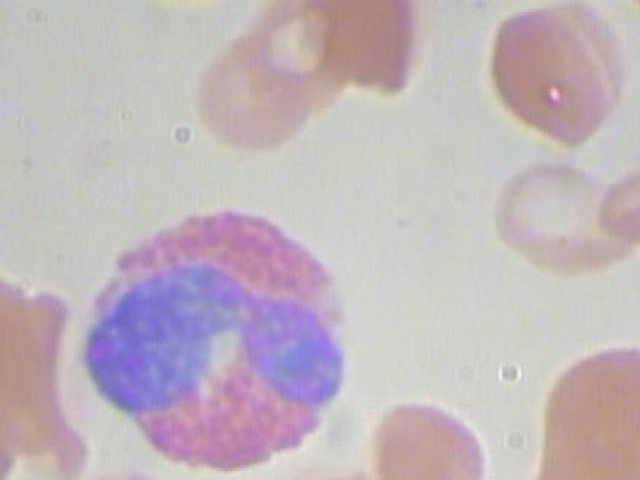RBC: (470, 0, 637, 153), (479, 143, 640, 290), (191, 9, 320, 162), (523, 334, 640, 480), (288, 0, 443, 99), (352, 383, 508, 480), (506, 412, 640, 480), (592, 125, 640, 260), (0, 248, 29, 413), (65, 454, 223, 480), (200, 466, 381, 480), (0, 383, 23, 480), (102, 0, 261, 7), (602, 0, 640, 28)
WBC: (60, 202, 375, 470)
